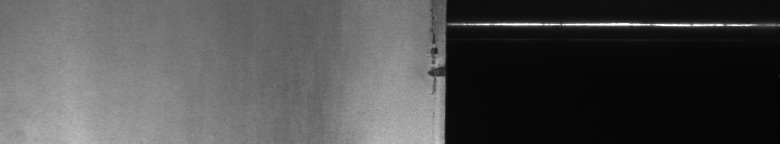hb: (420, 4, 436, 96)
